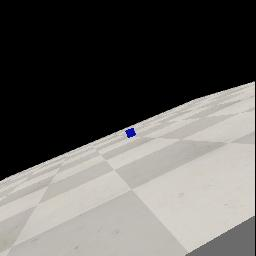box: (125, 128, 136, 138)
